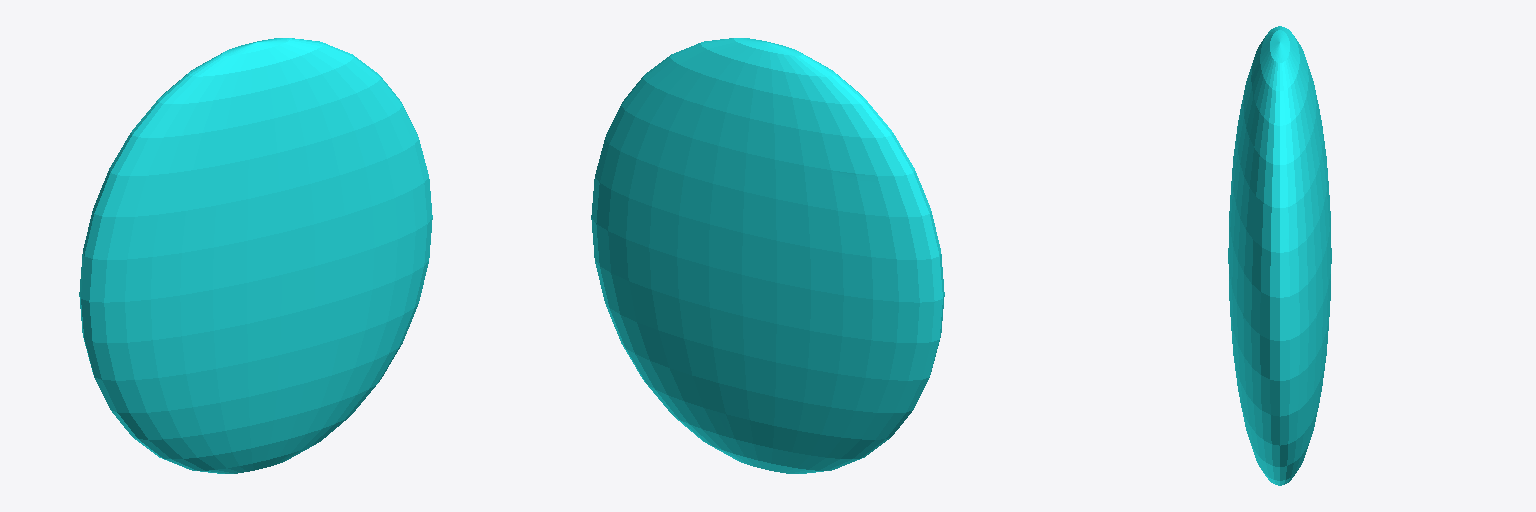
The picture shows the model from 3 angles: view 1: azimuth 30°, elevation 25°; view 2: azimuth 150°, elevation 25°; view 3: azimuth 270°, elevation 25°; orthographic projection.
Parts seen in each view (by area): view 1: 球; view 2: 球; view 3: 球.
Boxes of the visible parts, <box> form: 球: <box>79,38,432,473</box>; 球: <box>591,38,944,473</box>; 球: <box>1228,26,1331,485</box>.
Bounding box in the file's own units: 4.45 × 5.19 × 1.14.
1 materials, 1 textured.